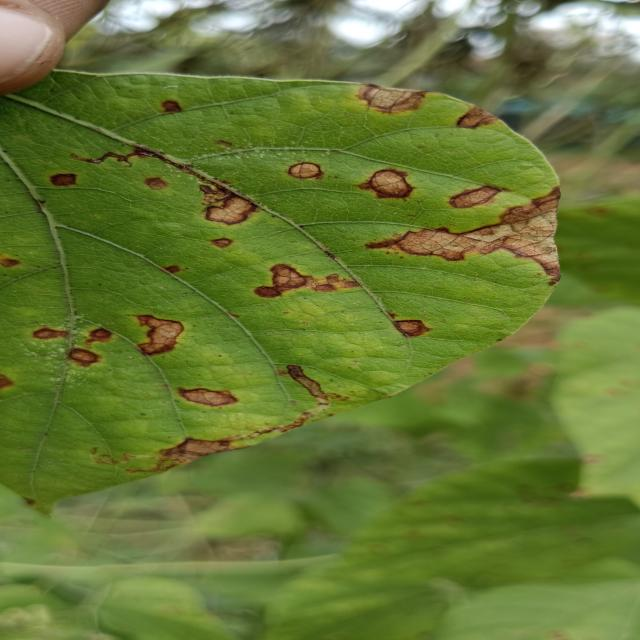Dolicos bean_cercospora leaf spot: (0, 52, 551, 511)
